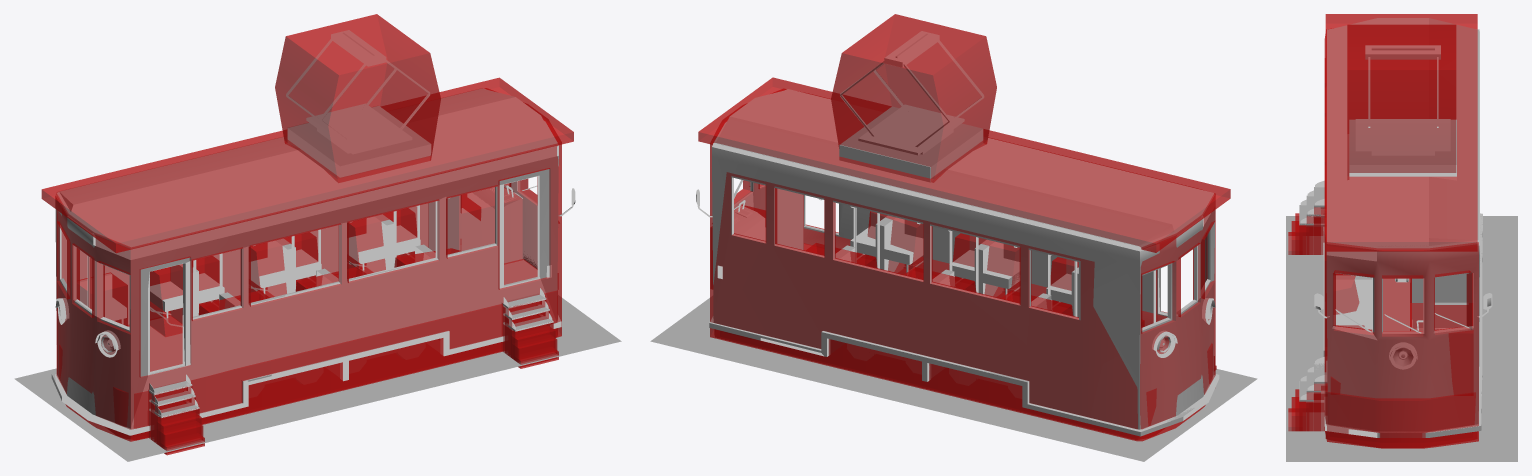
File: tram.dae
3 views of the same model, side by side, from view 1: azimuth 30°, elevation 25°; view 2: azimuth 150°, elevation 25°; view 3: azimuth 270°, elevation 25° (orthographic).
Visible parts, largest first — view 1: colmesh-2, tram500, tram100; view 2: colmesh-2, tram100, tram500; view 3: colmesh-2, tram500, tram100.
Part boxes in pixels (x1,y1,x2,y2): colmesh-2: [41, 14, 573, 455]; tram500: [14, 30, 621, 461]; tram100: [51, 32, 575, 428]; colmesh-2: [698, 14, 1230, 441]; tram100: [696, 34, 1215, 436]; tram500: [650, 31, 1257, 461]; colmesh-2: [1288, 14, 1478, 448]; tram500: [1286, 18, 1517, 461]; tram100: [1299, 18, 1491, 437].
Size of the model in its own units: 97.19 by 58.23 by 38.74.
